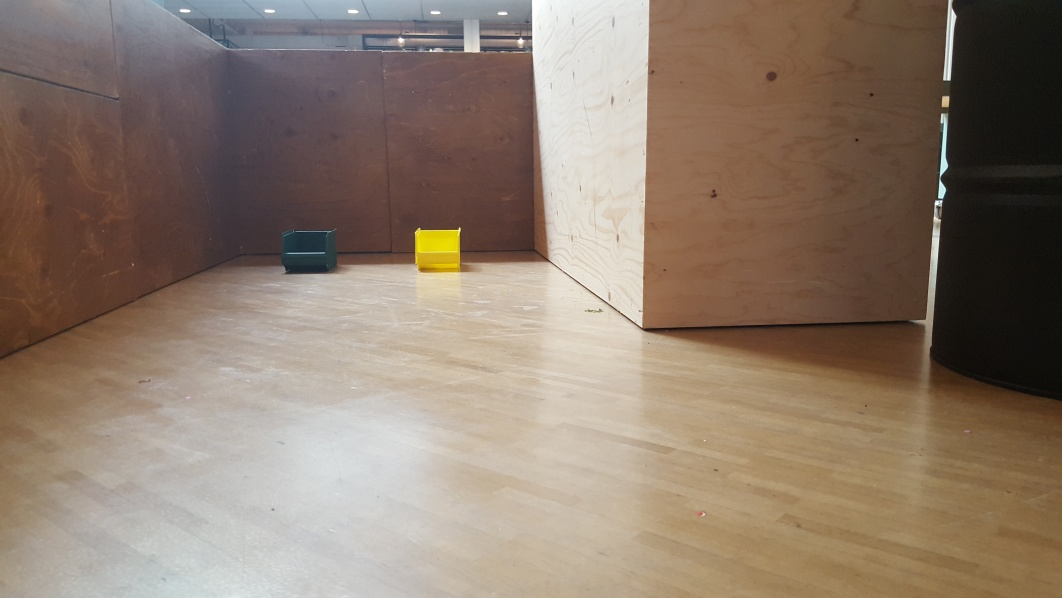tray: (278, 227, 340, 275), (408, 227, 466, 271)
